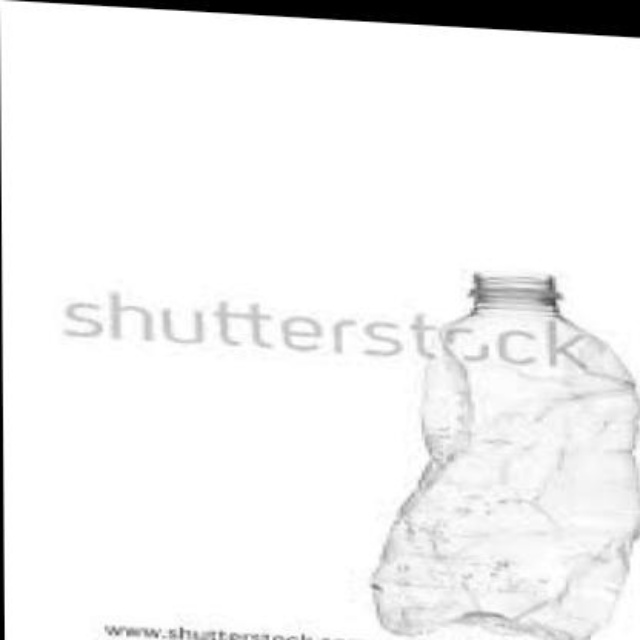trash: (372, 274, 638, 638)
